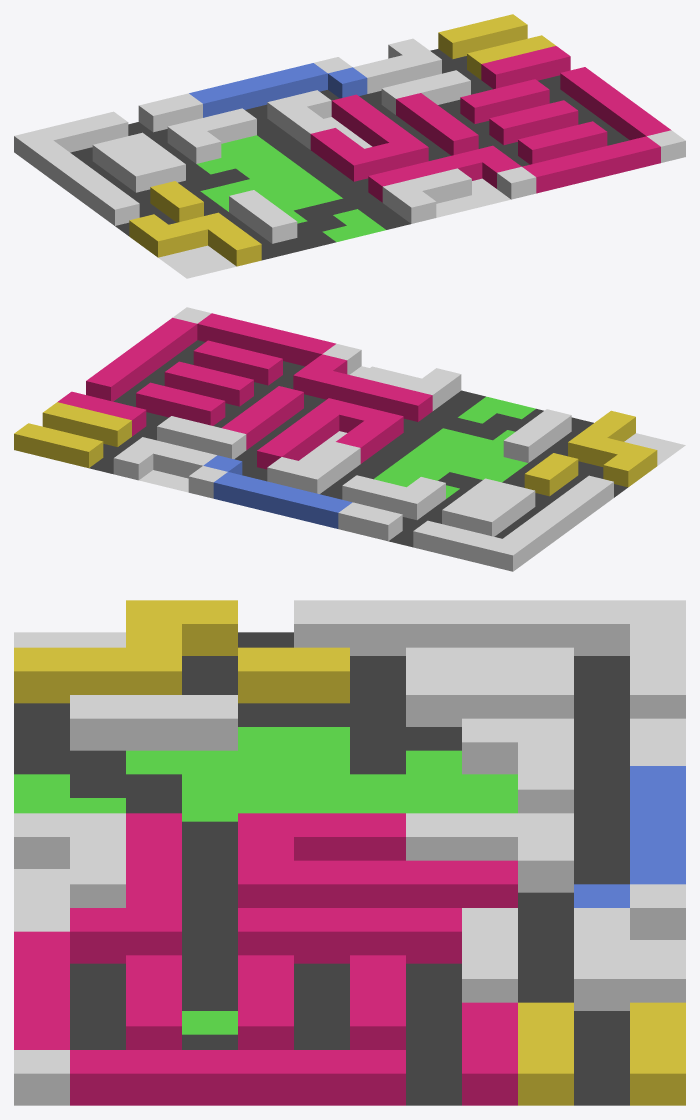
File: map_2.fbx
3 views of the same model, one above another, from view 1: azimuth 30°, elevation 25°; view 2: azimuth 150°, elevation 25°; view 3: azimuth 270°, elevation 25° (orthographic). The views are drawn at different scales.
Parts seen in each view (by area): view 1: Plane.095, Plane.120, Plane.167, Plane.171, Plane.006, Plane.110, Plane.007, Plane.176, Plane.164, Plane.204, Plane.055, Plane.058 (+84 smaller); view 2: Plane.060, Plane.108, Plane.180, Plane.204, Plane.121, Plane.109, Plane.003, Plane.055, Plane.051, Plane.165, Plane.205, Plane.172 (+84 smaller); view 3: Plane.110, Plane.165, Plane.166, Plane.167, Plane.006, Plane.037, Plane.059, Plane.084, Plane.092, Plane.093, Plane.096, Plane.120 (+181 smaller).
Boxes of the visible parts, box(x1,y1,x2,y2) form: Plane.095: box(497, 166, 536, 199); Plane.120: box(258, 211, 297, 243); Plane.167: box(222, 233, 261, 266); Plane.171: box(143, 225, 182, 257); Plane.006: box(397, 191, 436, 223); Plane.110: box(182, 131, 221, 163); Plane.007: box(339, 149, 378, 181); Plane.176: box(100, 193, 139, 225); Plane.164: box(121, 160, 160, 192); Plane.204: box(438, 26, 477, 59); Plane.055: box(489, 112, 528, 145); Plane.058: box(460, 91, 499, 123); Plane.060: box(113, 447, 153, 480); Plane.108: box(363, 508, 402, 541); Plane.180: box(488, 539, 527, 571); Plane.204: box(64, 435, 103, 468); Plane.121: box(503, 430, 542, 462); Plane.109: box(392, 487, 431, 519); Plane.003: box(393, 389, 432, 421); Plane.055: box(214, 373, 253, 406); Plane.051: box(243, 352, 282, 385); Plane.165: box(524, 463, 563, 496); Plane.205: box(92, 414, 131, 446); Plane.172: box(603, 454, 642, 487); Plane.110: box(462, 718, 517, 774); Plane.165: box(294, 647, 349, 703); Plane.166: box(238, 647, 293, 703); Plane.167: box(14, 647, 69, 703); Plane.006: box(14, 813, 69, 868); Plane.037: box(518, 837, 573, 892); Plane.059: box(574, 955, 629, 1010); Plane.084: box(630, 884, 685, 939); Plane.092: box(406, 908, 461, 963); Plane.093: box(294, 908, 349, 963); Plane.096: box(70, 908, 125, 963); Plane.120: box(70, 695, 125, 750).
Size of the model in its own units: 32000 by 1000 by 19200.
